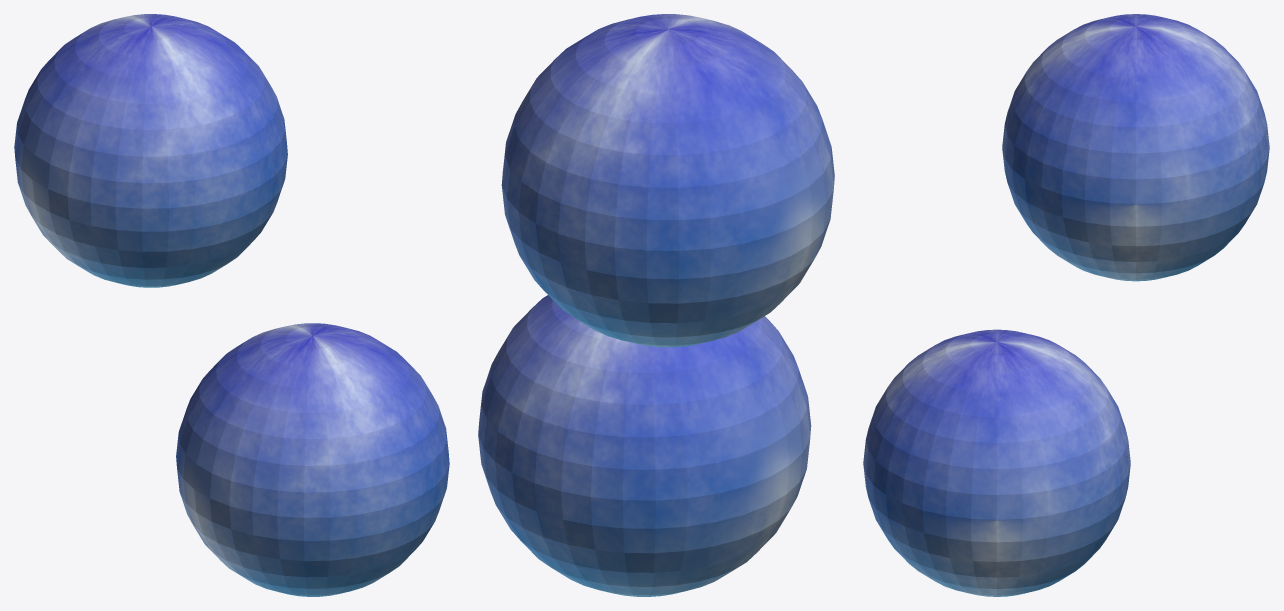
The model's file is SkyDome.obj.
3 views of the same model, side by side, from view 1: azimuth 30°, elevation 25°; view 2: azimuth 150°, elevation 25°; view 3: azimuth 270°, elevation 25° (orthographic). The views are drawn at different scales.
Visible parts, largest first — view 1: 球, 球.001; view 2: 球, 球.001; view 3: 球, 球.001.
Boxes of the visible parts, x1,y1,x2,y2 form: 球: [14, 14, 287, 287]; 球.001: [176, 323, 449, 596]; 球: [501, 14, 834, 347]; 球.001: [478, 295, 811, 596]; 球: [1002, 14, 1269, 281]; 球.001: [863, 329, 1130, 596].
Size of the model in its own units: 2763 by 4247 by 3038.
